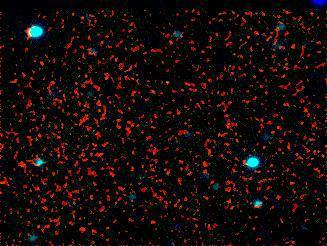star: (65, 215, 95, 245)
